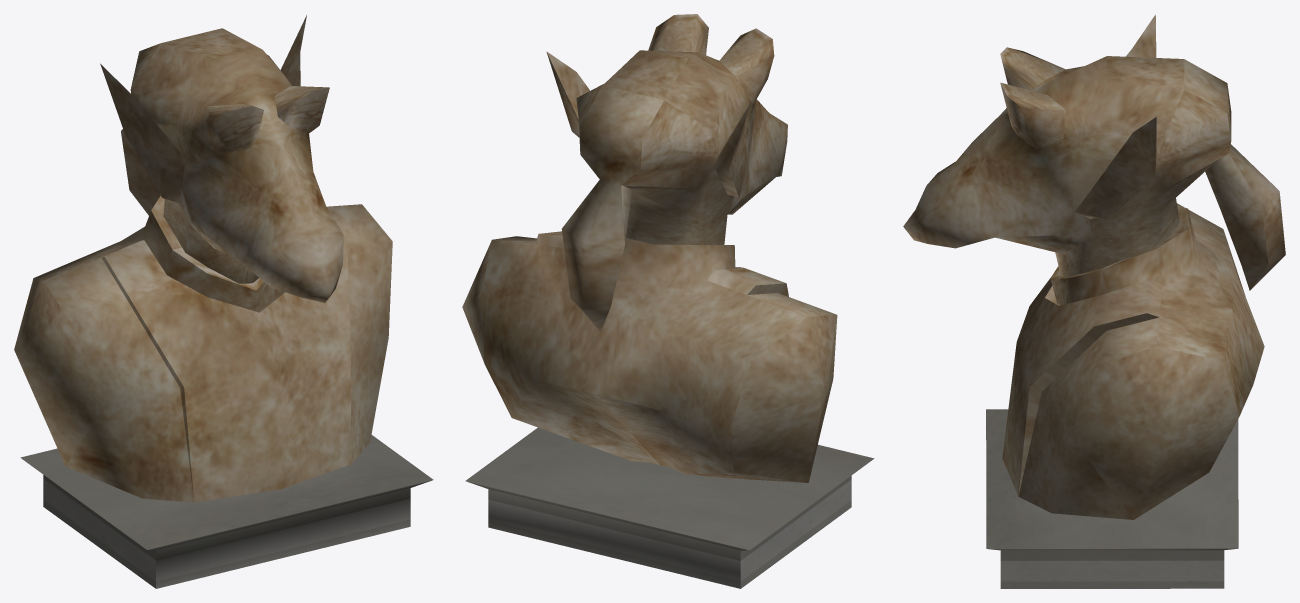
File: cor1_prop_library_bustA.fbx
3 renders of one model, left to right at view 1: azimuth 30°, elevation 25°; view 2: azimuth 150°, elevation 25°; view 3: azimuth 270°, elevation 25°, orthographic.
Visible parts, largest first — view 1: COR1_prop_library_bustA, polymsh24; view 2: COR1_prop_library_bustA, polymsh24; view 3: COR1_prop_library_bustA, polymsh24.
Part boxes in pixels (x1,y1,x2,y2): COR1_prop_library_bustA: (14,15,392,502); polymsh24: (20,435,433,588); COR1_prop_library_bustA: (462,14,837,482); polymsh24: (465,427,874,588); COR1_prop_library_bustA: (903,14,1285,519); polymsh24: (986,409,1238,588).
Bounding box in the file's own units: 0.985 × 1.24 × 0.9022.
